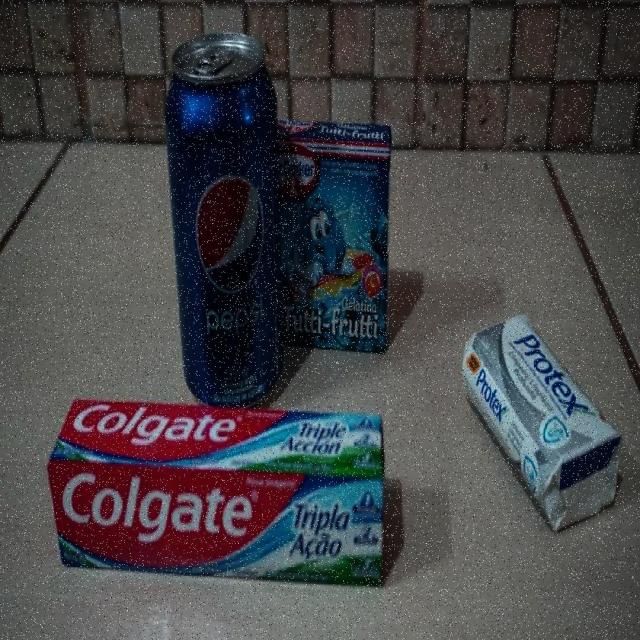Gelatine: (276, 116, 391, 358)
Soap: (462, 313, 622, 534)
SodaCan: (164, 31, 284, 409)
Toothpaste: (46, 398, 388, 590)
